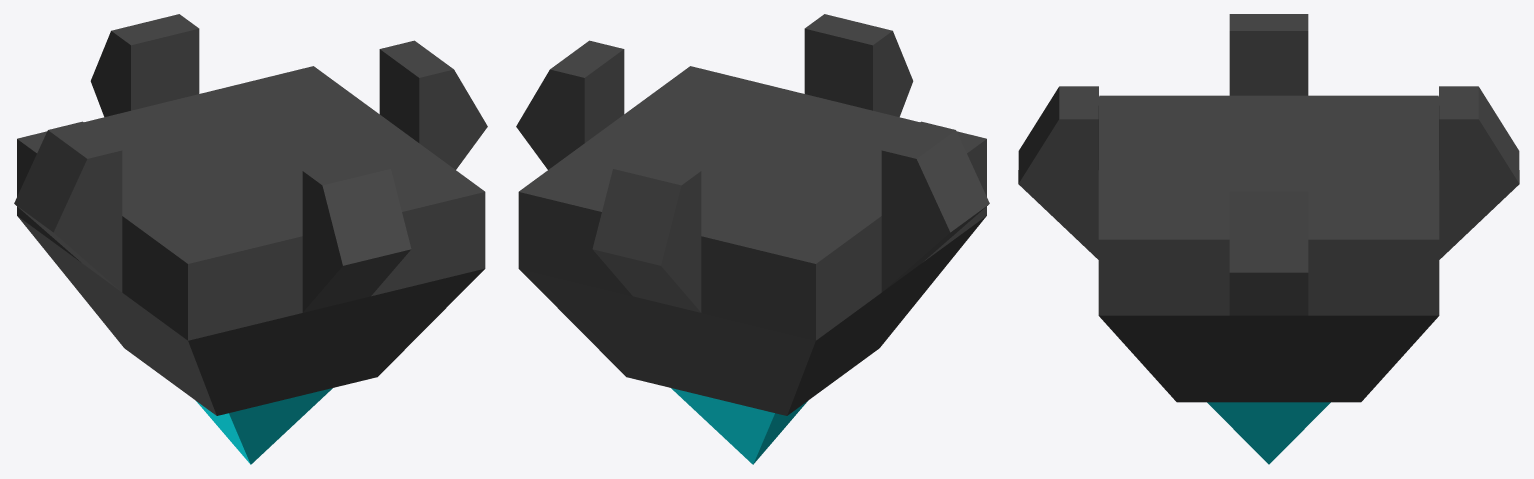
Rendered from Bridge Floating Platform.fbx.
The picture shows the model from 3 angles, left to right: view 1: azimuth 30°, elevation 25°; view 2: azimuth 150°, elevation 25°; view 3: azimuth 270°, elevation 25°; orthographic projection.
Parts seen in each view (by area): view 1: Bridge Floating Base; view 2: Bridge Floating Base; view 3: Bridge Floating Base.
Part boxes in pixels (x1=…): Bridge Floating Base: x1=14, y1=14, x2=487, y2=464; Bridge Floating Base: x1=516, y1=14, x2=989, y2=464; Bridge Floating Base: x1=1018, y1=14, x2=1519, y2=464.
Bounding box in the file's own units: 156 × 125 × 157.
